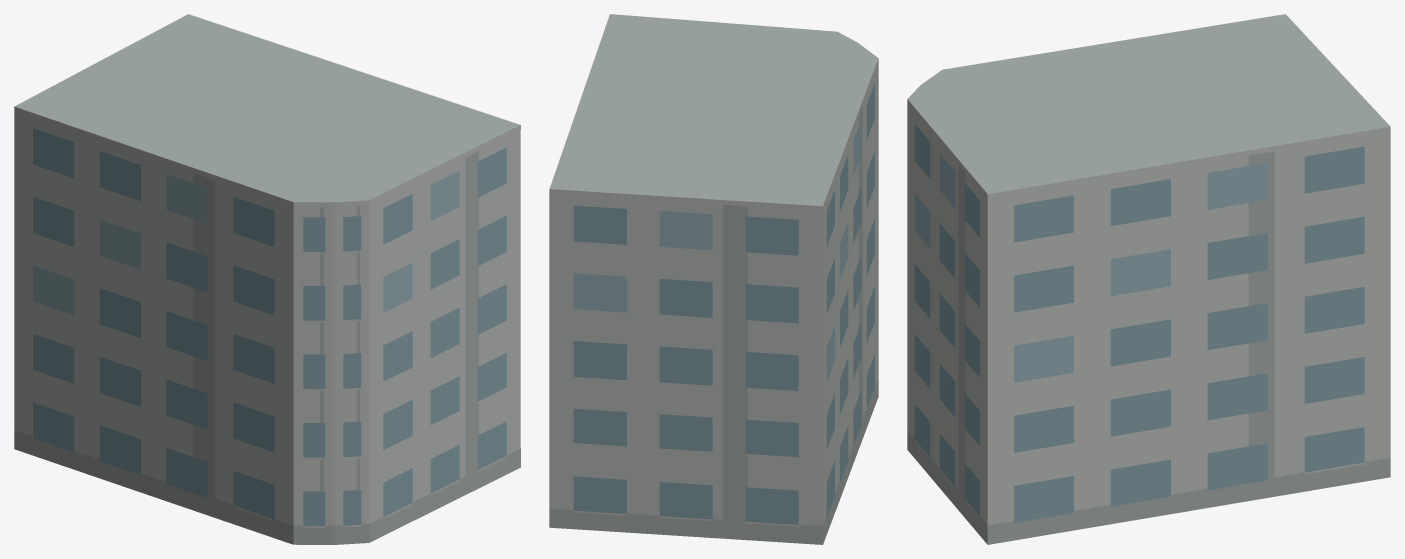
File: survey-upis-32866132.glb
The picture shows the model from 3 angles, left to right: view 1: azimuth 30°, elevation 25°; view 2: azimuth 150°, elevation 25°; view 3: azimuth 270°, elevation 25°; orthographic projection. The views are drawn at different scales.
Visible parts, largest first — view 1: survey-upis-32866132.tmp; view 2: survey-upis-32866132.tmp; view 3: survey-upis-32866132.tmp.
Part boxes in pixels (x1,y1,x2,y2): survey-upis-32866132.tmp: (14,14,520,544); survey-upis-32866132.tmp: (549,14,878,544); survey-upis-32866132.tmp: (907,14,1390,544).
Size of the model in its own units: 18.31 by 16.6 by 20.75.
